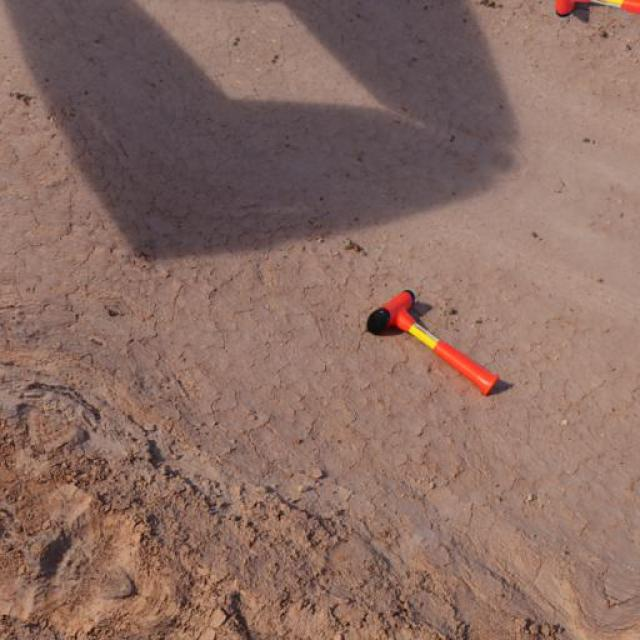mallet: (365, 288, 500, 397), (552, 0, 638, 18)
